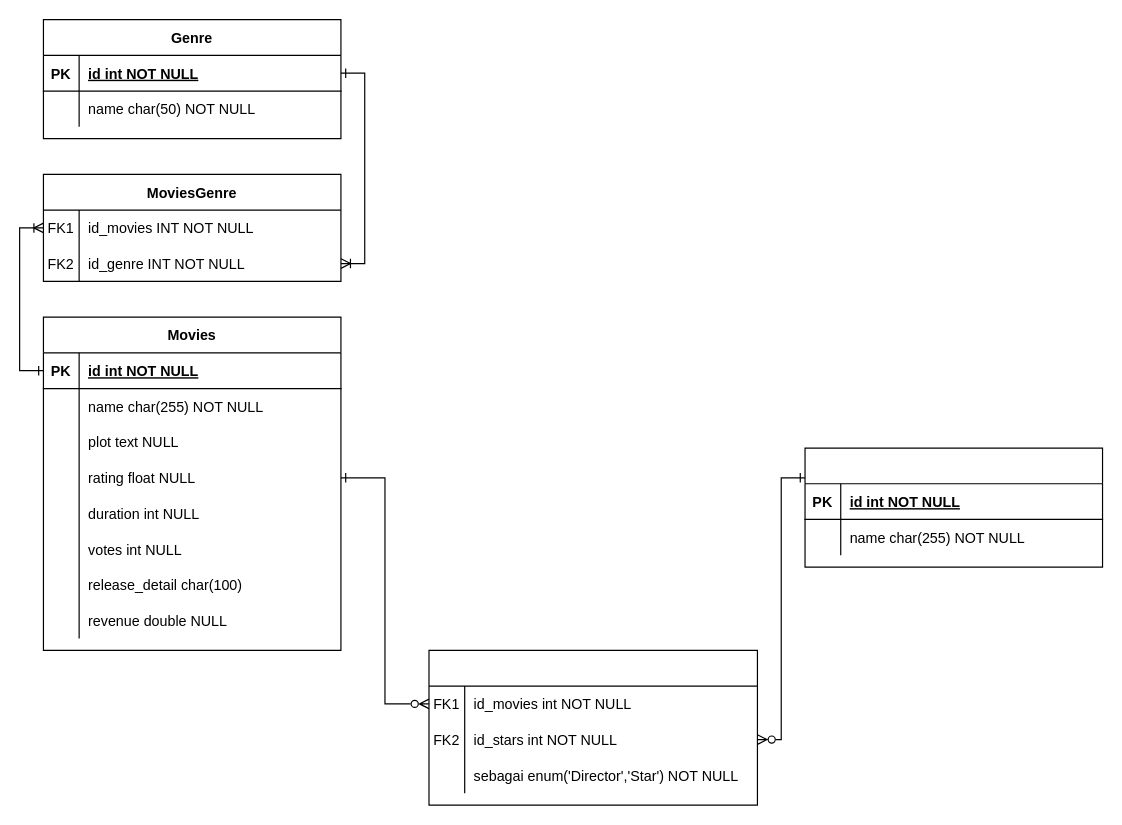
The diagram is 1122 pixels wide and 825 high, and some of its shapes have lost their labels. The shapes that lost their labels are listed below. From the top down, each one's box as (x1, y1, x2, y2) in pixels, then its label:
(804, 447, 1103, 567): Stars
(428, 649, 757, 805): Roles
